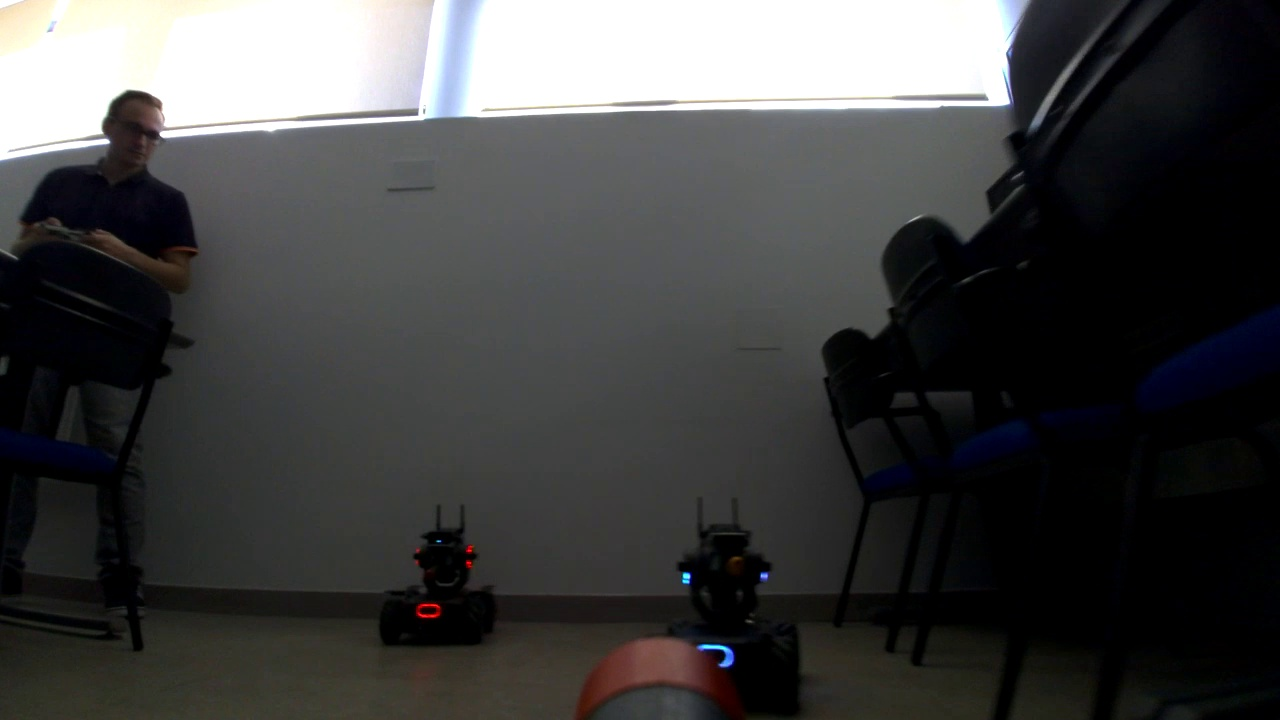robot: (671, 496, 801, 696), (377, 504, 494, 645)
